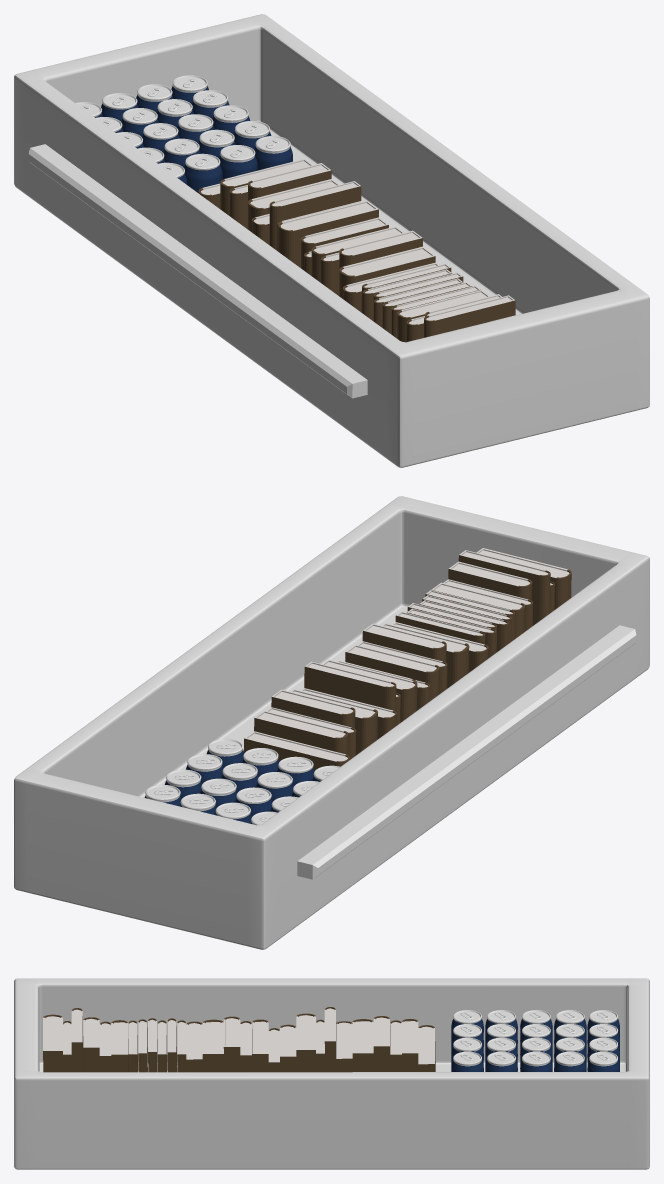
The model's file is livingroomDrawer2.fbx.
The picture shows the model from 3 angles, top to bottom: view 1: azimuth 30°, elevation 25°; view 2: azimuth 150°, elevation 25°; view 3: azimuth 270°, elevation 25°; orthographic projection. The views are drawn at different scales.
Visible parts, largest first — view 1: pCube3, _ChamferBox133, pCube13, can123, can128, can132, can131, can134, can121, can120, can118, can126 (+6 smaller); view 2: pCube3, _ChamferBox133, pCube13, can126, can124, can125, can134, can131, can128, can123, can121, can132; view 3: pCube3, _ChamferBox133, can124, can120, can128, can131, can127, can135, can125, can119, can132, can121 (+10 smaller).
Part boxes in pixels (x1,y1,x2,y2): pCube3: (14,14,649,467); _ChamferBox133: (198,159,515,342); pCube13: (28,144,367,398); can123: (184,153,222,192); can128: (254,136,292,170); can132: (219,145,257,179); can131: (212,105,250,134); can134: (142,123,179,152); can121: (177,114,214,143); can120: (191,90,229,118); can118: (121,108,158,136); can126: (163,138,200,167); pCube3: (14,496,649,949); _ChamferBox133: (244,548,571,770); pCube13: (297,625,636,879); can126: (256,772,293,801); can124: (186,754,223,783); can125: (221,763,258,792); can134: (235,787,272,816); can131: (164,769,202,798); can128: (206,739,244,767); can123: (277,756,314,785); can121: (200,778,237,807); can132: (242,748,279,776); pCube3: (14,978,649,1169); _ChamferBox133: (43,1007,435,1072); can124: (485,1051,517,1071); can120: (554,1051,586,1071); can128: (451,1051,483,1071); can131: (520,1051,552,1071); can127: (587,1051,619,1071); can135: (554,1037,586,1066); can125: (485,1037,517,1066); can119: (587,1037,619,1066); can132: (451,1037,483,1066); can121: (520,1037,552,1065).
Bounding box in the file's own units: 409 × 164 × 1015.
